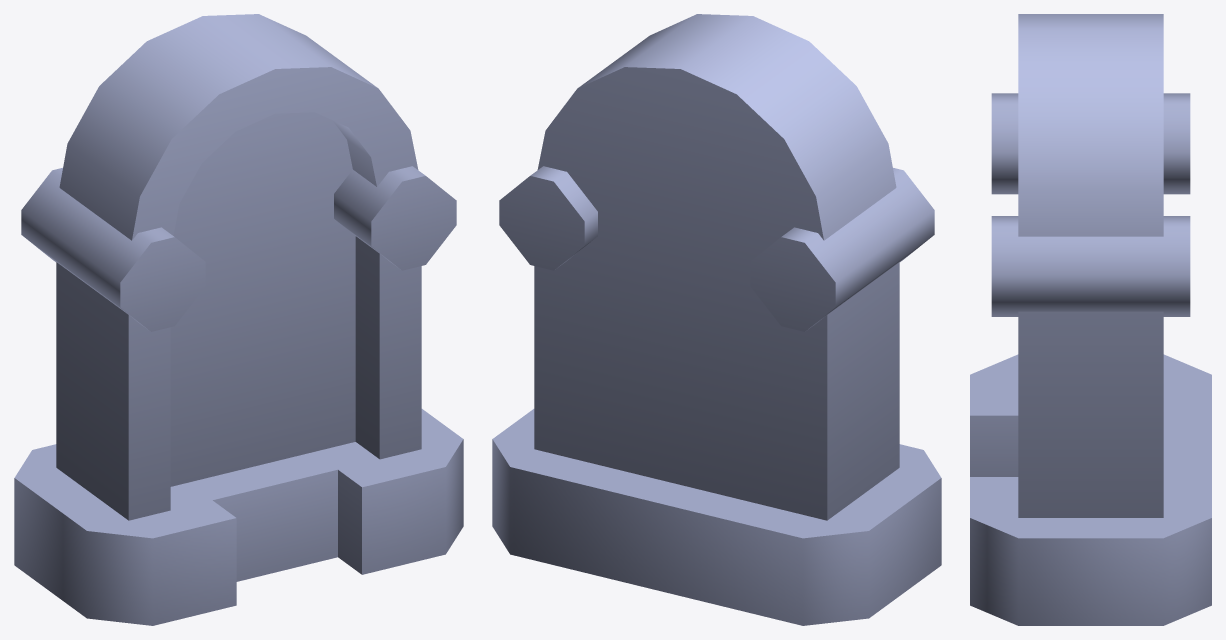
The model's file is gravestone-round.glb.
3 renders of one model, left to right at view 1: azimuth 30°, elevation 25°; view 2: azimuth 150°, elevation 25°; view 3: azimuth 270°, elevation 25°, orthographic.
Parts seen in each view (by area): view 1: gravestone-round; view 2: gravestone-round; view 3: gravestone-round.
Boxes of the visible parts, x1,y1,x2,y2 form: gravestone-round: [14, 14, 463, 625]; gravestone-round: [492, 14, 941, 625]; gravestone-round: [970, 14, 1211, 625].
Bounding box in the file's own units: 9 × 11.5 × 5.
1 material, 1 textured.
